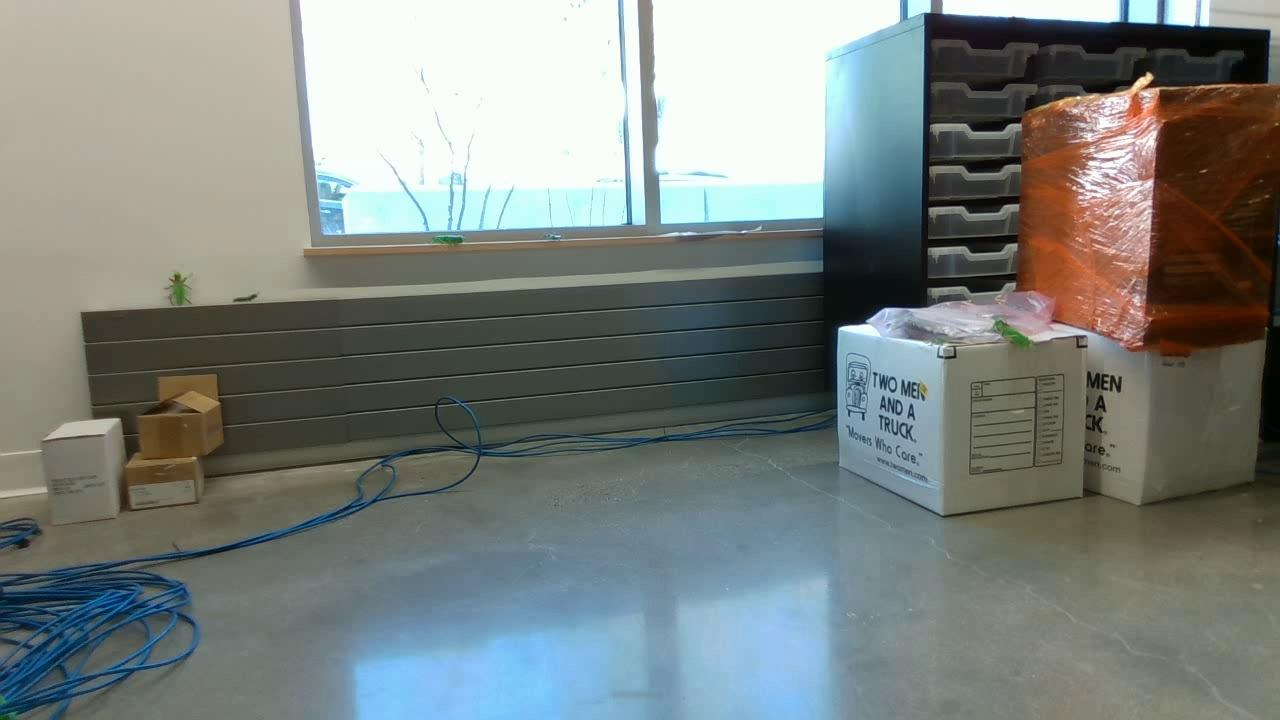grasshopper: (165, 273, 195, 305), (430, 235, 463, 246)
